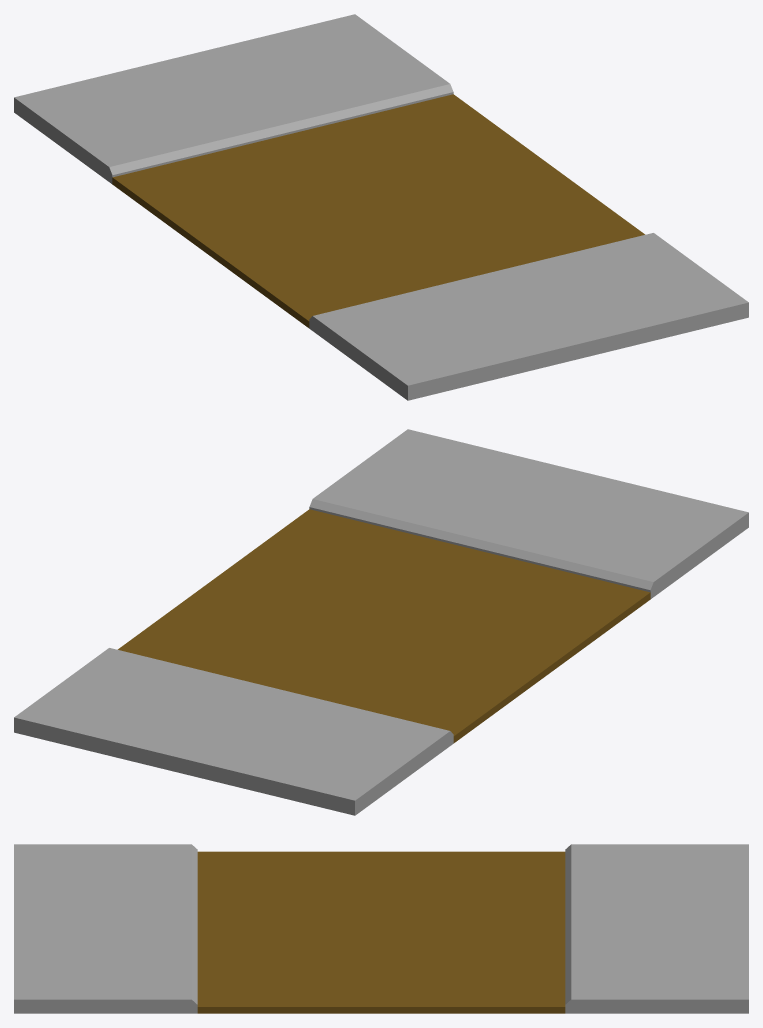
File: roadShortMuddy.fbx
3 renders of one model, top to bottom at view 1: azimuth 30°, elevation 25°; view 2: azimuth 150°, elevation 25°; view 3: azimuth 270°, elevation 25°, orthographic. The views are drawn at different scales.
Visible parts, largest first — view 1: RoadShortMuddy; view 2: RoadShortMuddy; view 3: RoadShortMuddy.
Part boxes in pixels (x1,y1,x2,y2): RoadShortMuddy: (14, 14, 748, 400); RoadShortMuddy: (14, 429, 748, 815); RoadShortMuddy: (14, 844, 748, 1013).
Size of the model in its own units: 1000 by 42.29 by 2000.
